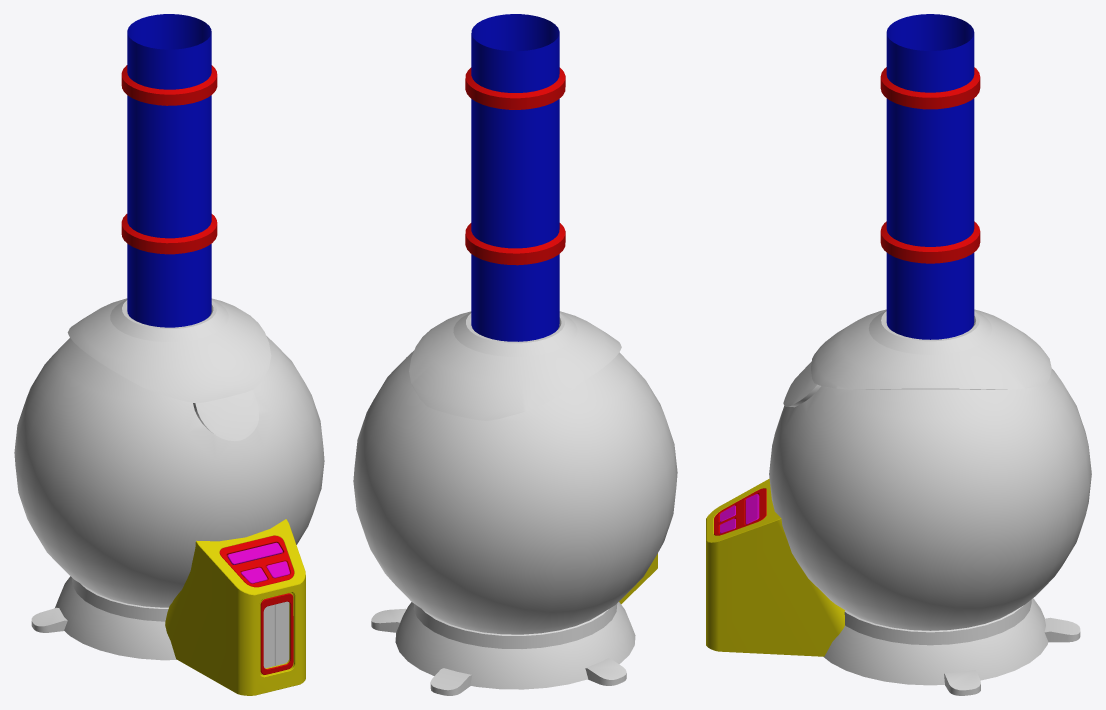
The model's file is DropOff.fbx.
3 views of the same model, side by side, from view 1: azimuth 30°, elevation 25°; view 2: azimuth 150°, elevation 25°; view 3: azimuth 270°, elevation 25° (orthographic). The views are drawn at different scales.
Visible parts, largest first — view 1: OuterGlass, Tube, Terminal, Slice.008, Base.001, DoorLeft, DoorRight, Feet.001; view 2: OuterGlass, Tube, Slice.008, Base.001, Feet.001; view 3: OuterGlass, Tube, Terminal, Slice.008, Base.001, Feet.001.
Part boxes in pixels (box(x1,y1,x2,y2)): OuterGlass: box(14, 336, 324, 607); Tube: box(121, 14, 217, 327); Terminal: box(165, 519, 305, 695); Slice.008: box(67, 298, 271, 441); Base.001: box(55, 576, 176, 660); DoorLeft: box(275, 601, 289, 665); DoorRight: box(263, 604, 274, 668); Feet.001: box(31, 607, 67, 632); OuterGlass: box(353, 351, 677, 634); Tube: box(465, 14, 565, 341); Slice.008: box(409, 311, 621, 420); Base.001: box(395, 602, 635, 689); Feet.001: box(371, 608, 626, 695); OuterGlass: box(769, 368, 1091, 630); Tube: box(880, 14, 980, 339); Terminal: box(706, 478, 844, 656); Slice.008: box(783, 309, 1051, 406); Base.001: box(823, 598, 1048, 685); Feet.001: box(944, 617, 1080, 695).
Bounding box in the file's own units: 3.69 × 7.61 × 4.41.
